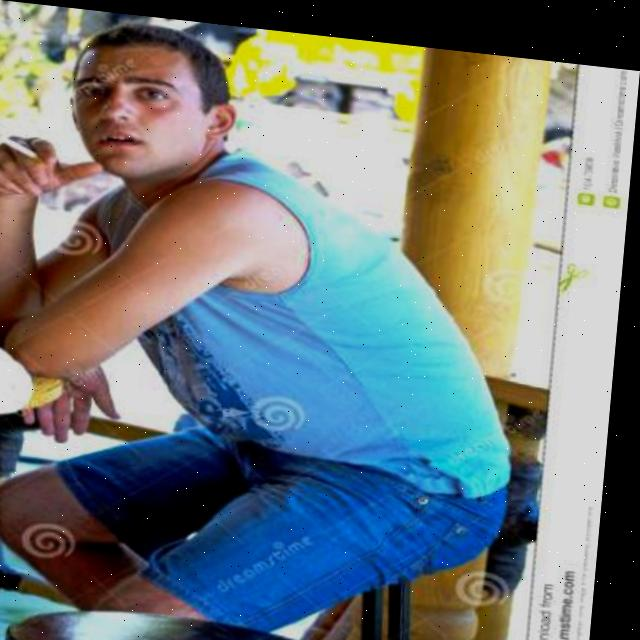cigarette: (0, 127, 51, 164)
